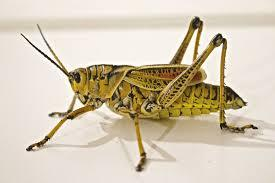insect: (18, 12, 260, 173)
